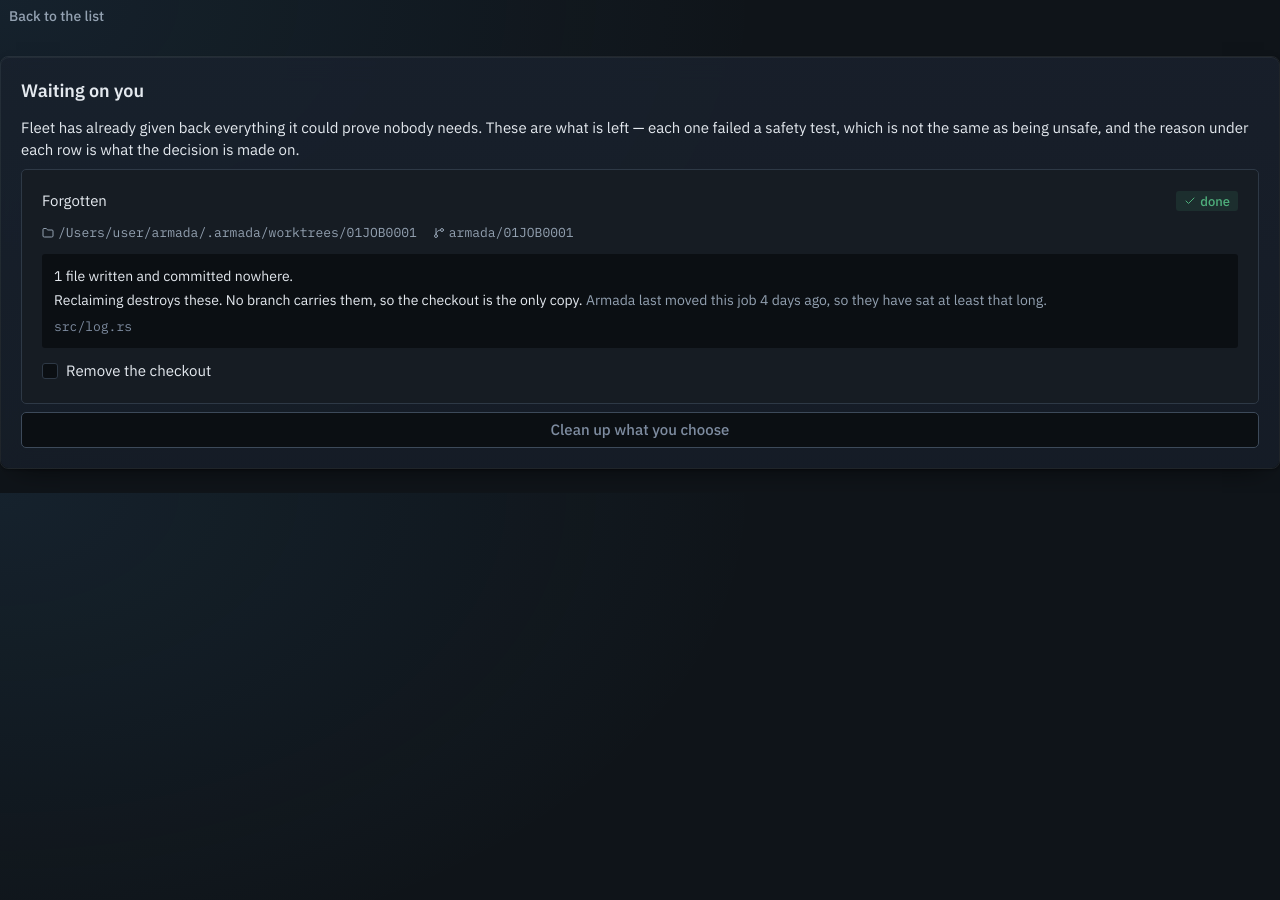
Test: the confirmation says how long the work it is about to destroy has sat
Click the checkbox labelled "Remove the checkout" at (127, 371), box [42, 360, 211, 382]
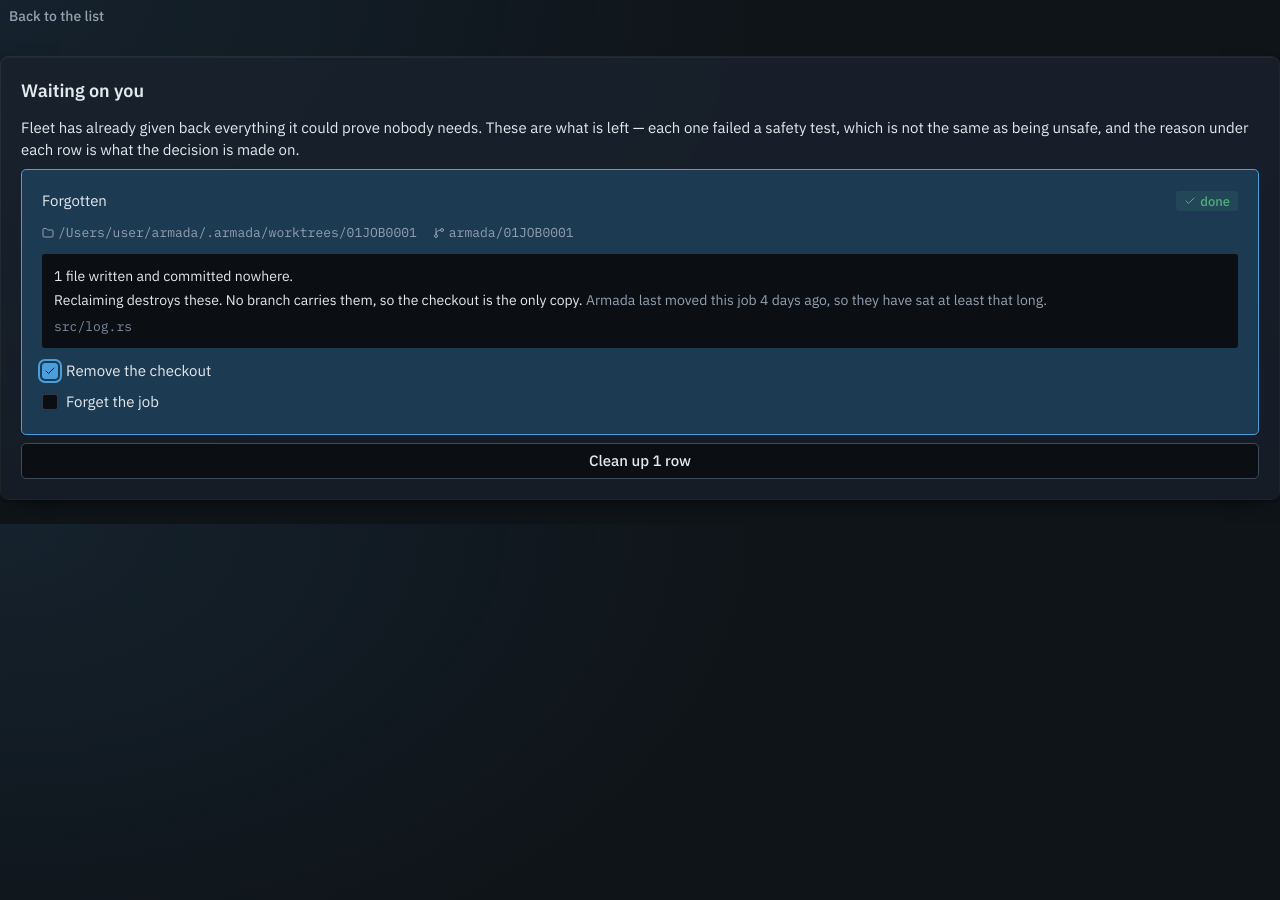
Click the button "Clean up 1 row" at (640, 461), box [21, 443, 1259, 479]
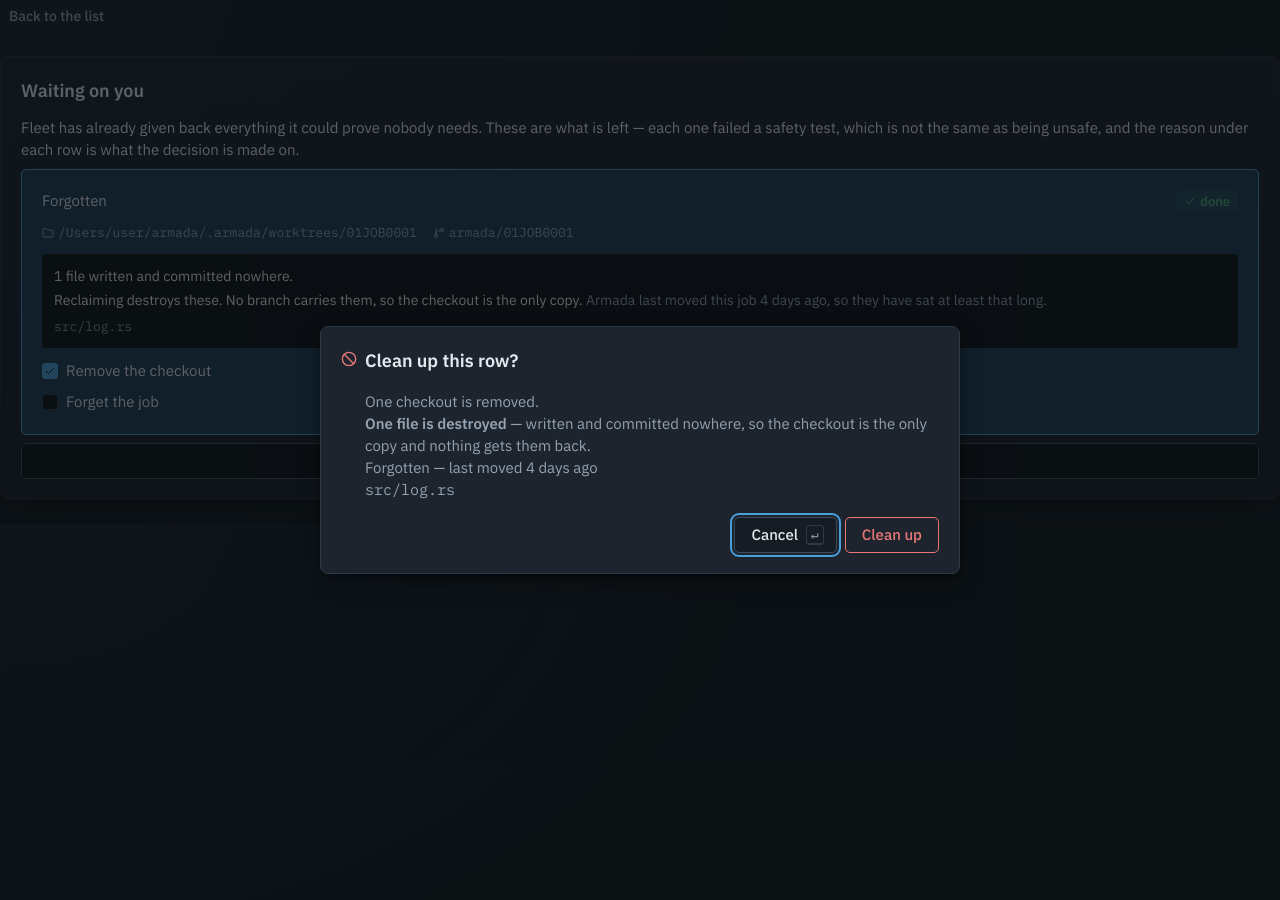
Now the dialog shows "Forgotten — last moved 4 days ago", box [365, 458, 598, 477]
